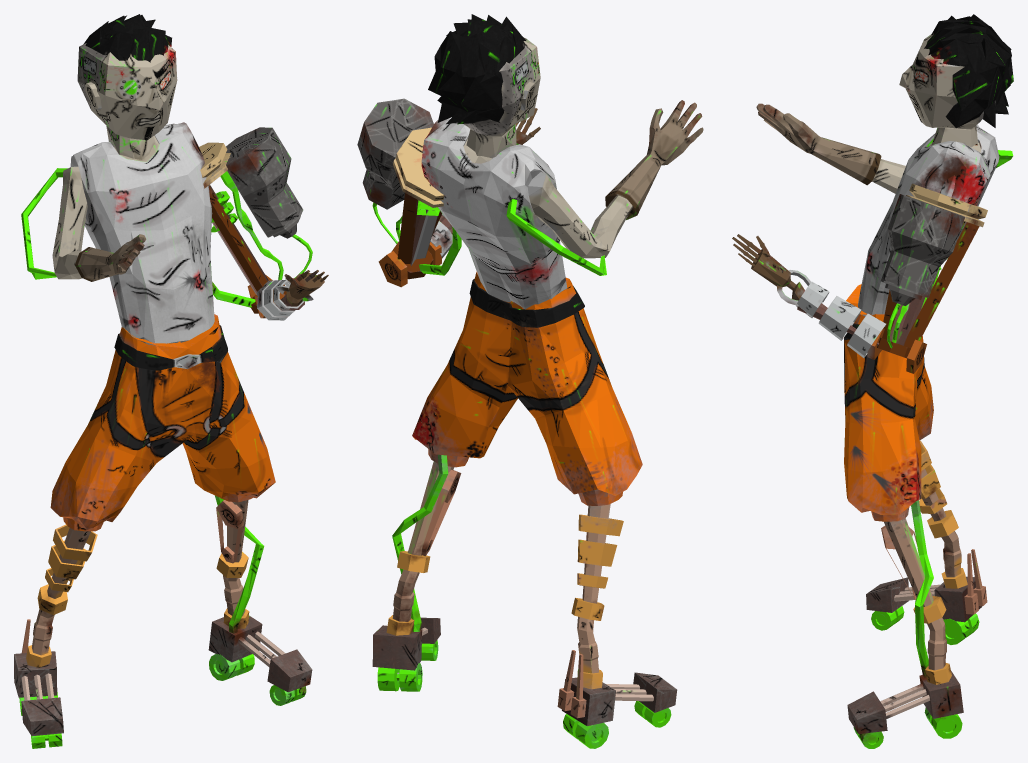
File: CyborgFINALAnimation_000005.obj
3 views of the same model, side by side, from view 1: azimuth 30°, elevation 25°; view 2: azimuth 150°, elevation 25°; view 3: azimuth 270°, elevation 25° (orthographic). The views are drawn at different scales.
Visible parts, largest first — view 1: CyborgMesh_Cube.002; view 2: CyborgMesh_Cube.002; view 3: CyborgMesh_Cube.002.
Boxes of the visible parts, <box> form: CyborgMesh_Cube.002: <box>14,14,328,748</box>; CyborgMesh_Cube.002: <box>357,14,703,748</box>; CyborgMesh_Cube.002: <box>732,14,1013,748</box>.
Bounding box in the file's own units: 4.22 × 9.48 × 3.62.
